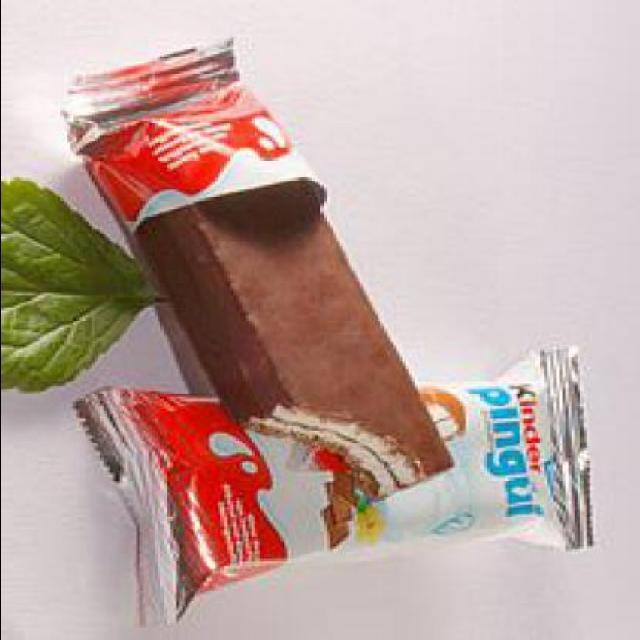Merendine: (90, 347, 594, 610)
Merendine packaged: (118, 174, 456, 510)
